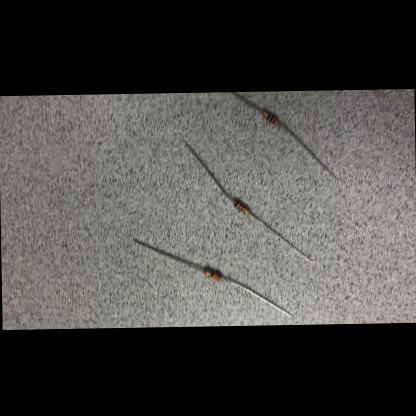resistor: (232, 198, 250, 213), (262, 109, 278, 123), (203, 267, 221, 279)
wire: (278, 119, 336, 178), (250, 210, 312, 262), (184, 139, 233, 201), (222, 276, 291, 316), (133, 236, 203, 271), (229, 90, 261, 112)
